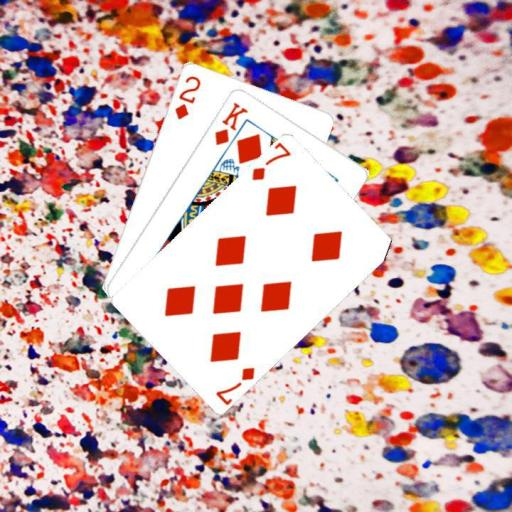2D: (171, 72, 202, 121)
7D: (248, 140, 293, 182), (213, 363, 257, 405)
KD: (211, 99, 250, 146)
